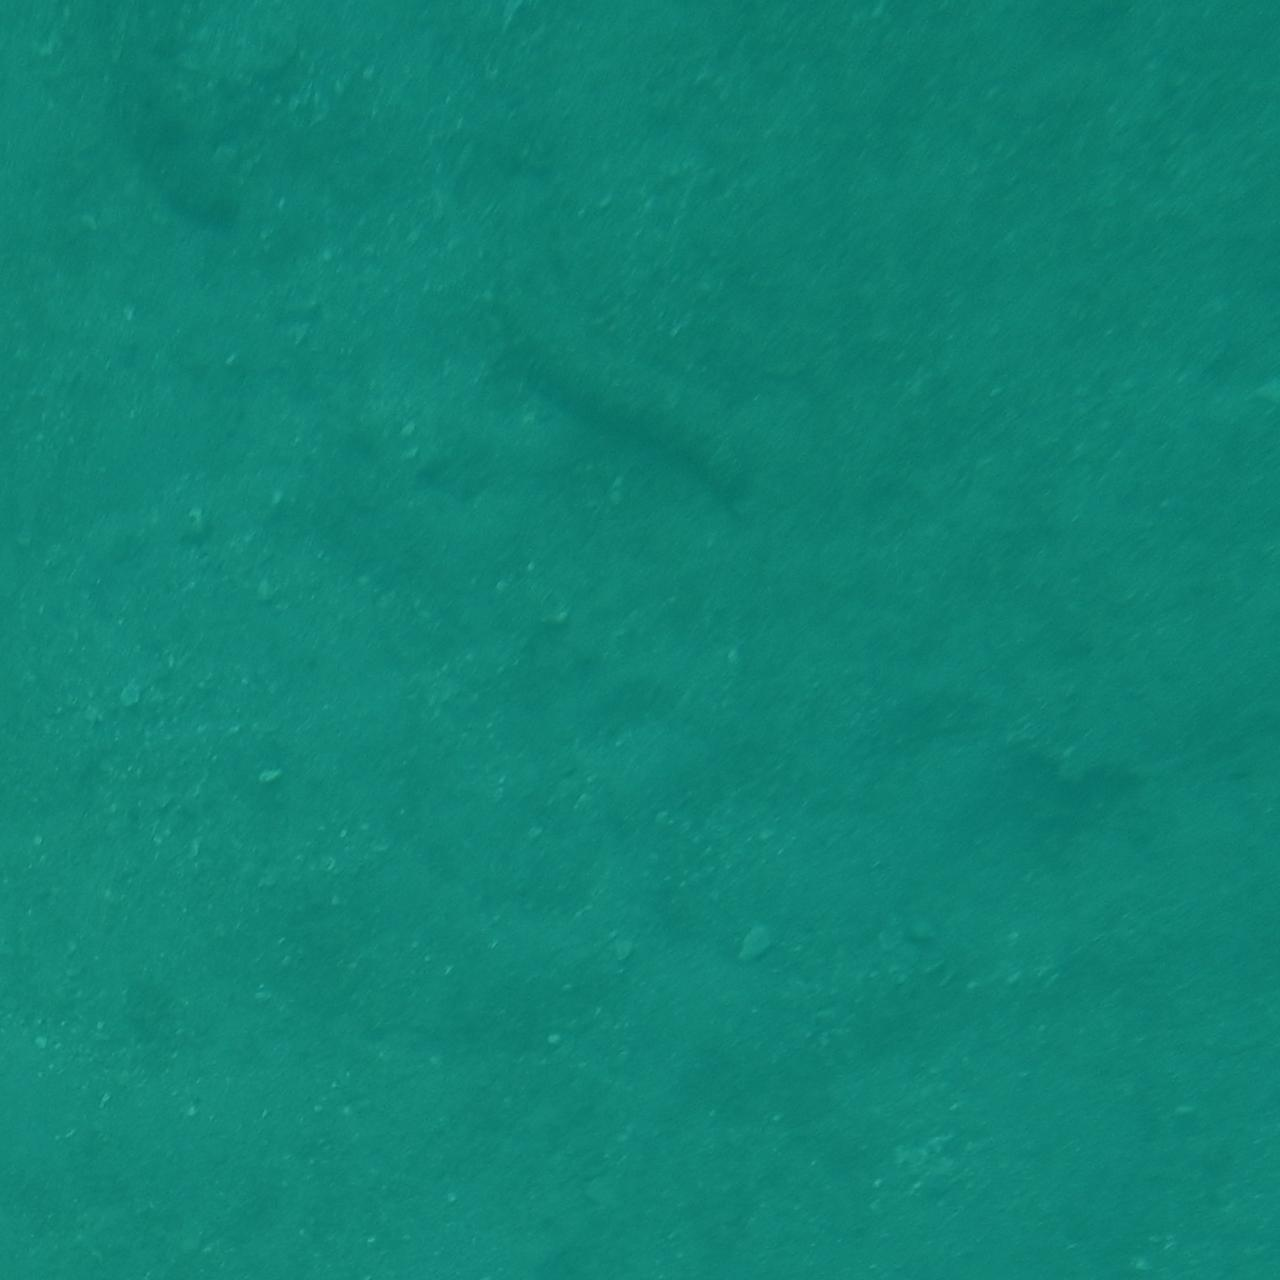Holothuria tubulosa: (482, 288, 798, 511)
